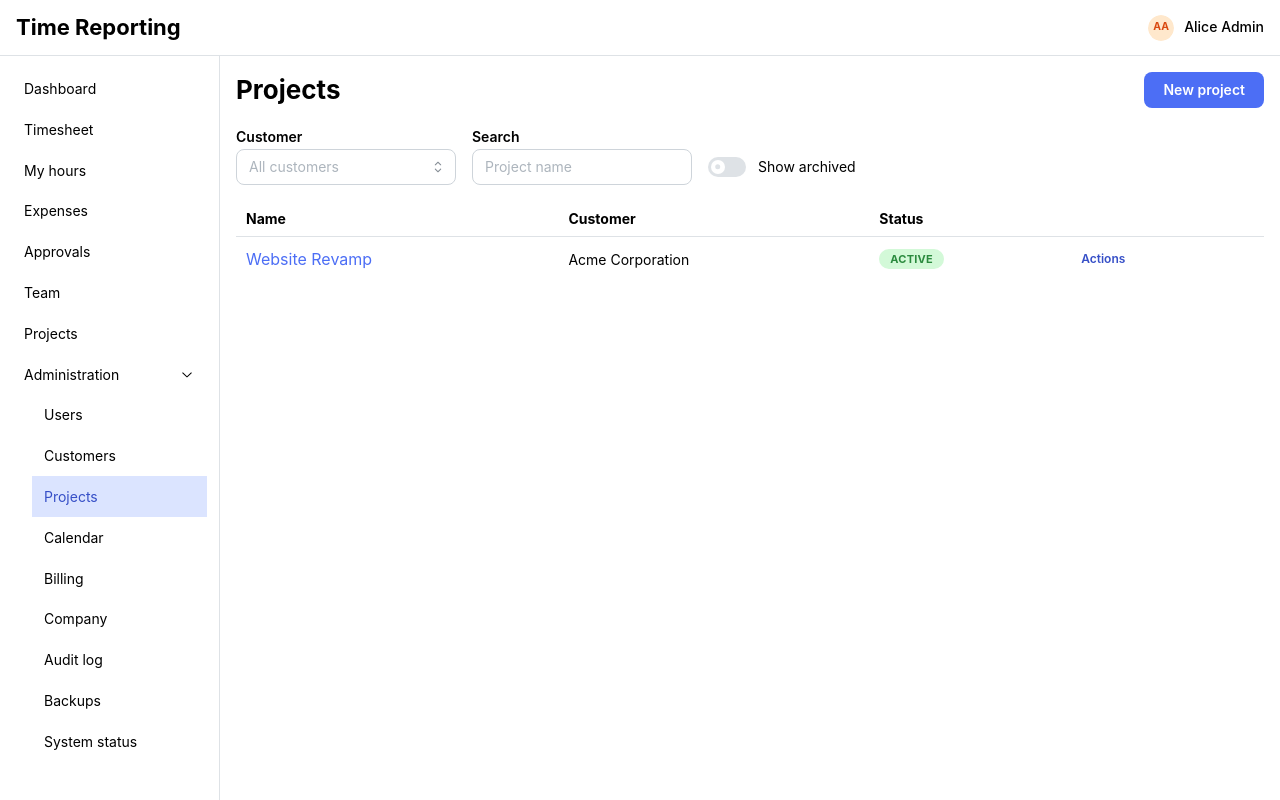
Test case: AdminProjectsPage › creates a project and stays on the admin page
expect the link "Website Revamp" is shown: met, box [246,249,372,269]
Click the button "New project" at (1204, 90), box [1144,72,1264,108]
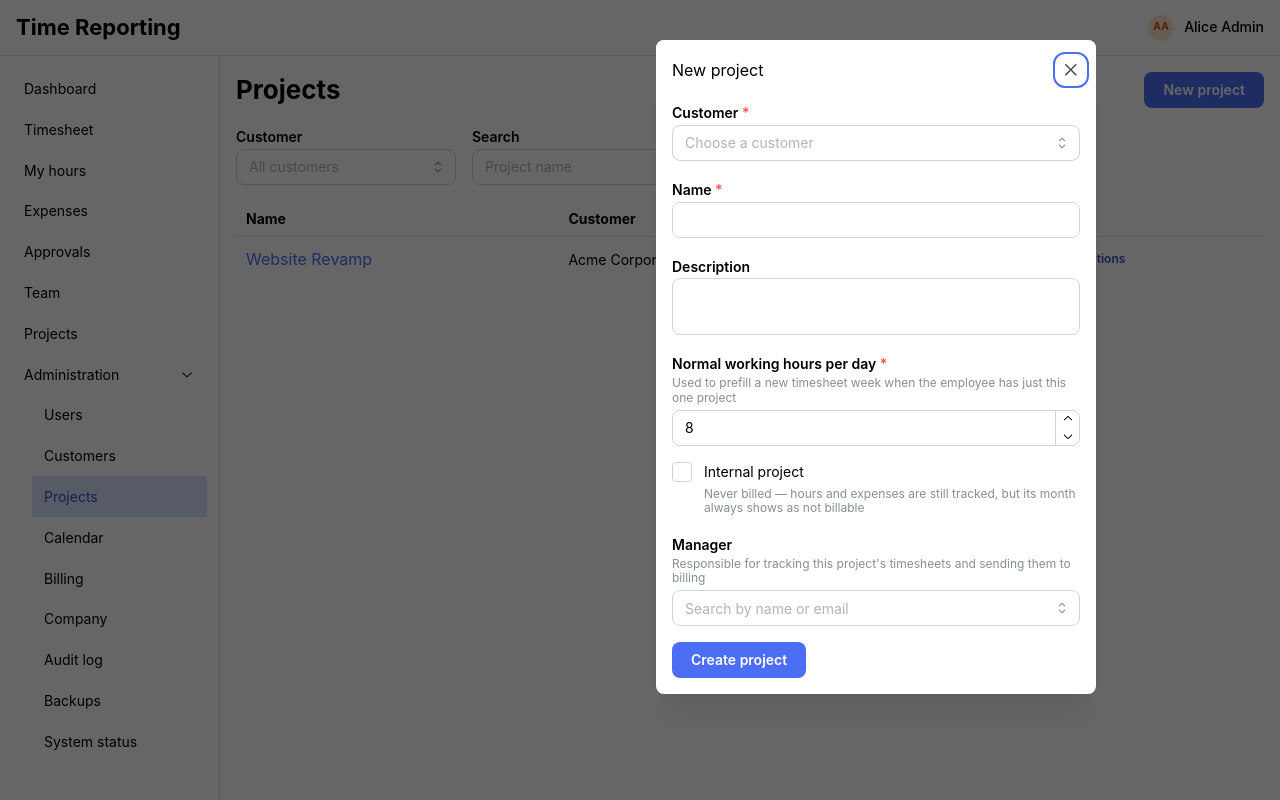
Click the dropdown labelled "Customer" at (876, 143), box [672,125,1080,161]
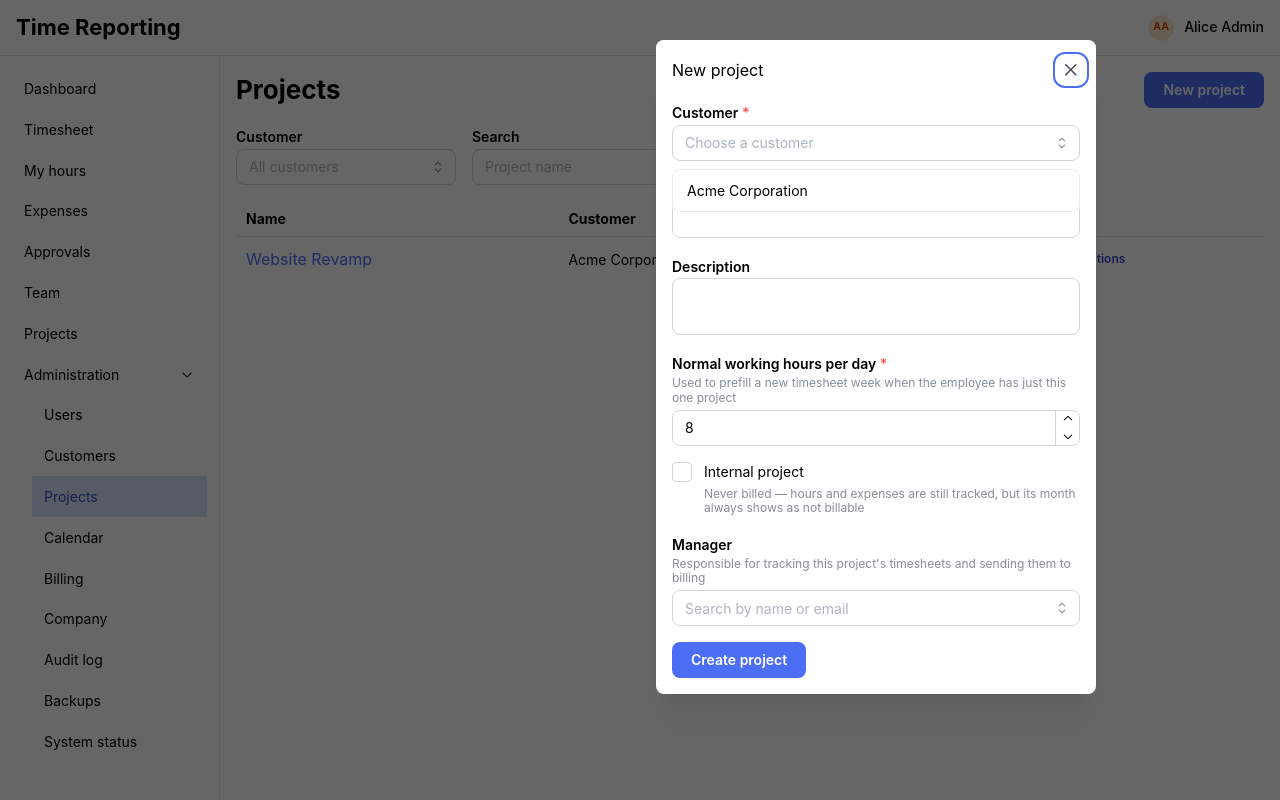
Click the option "Acme Corporation" at (747, 190), box [687,182,808,199]
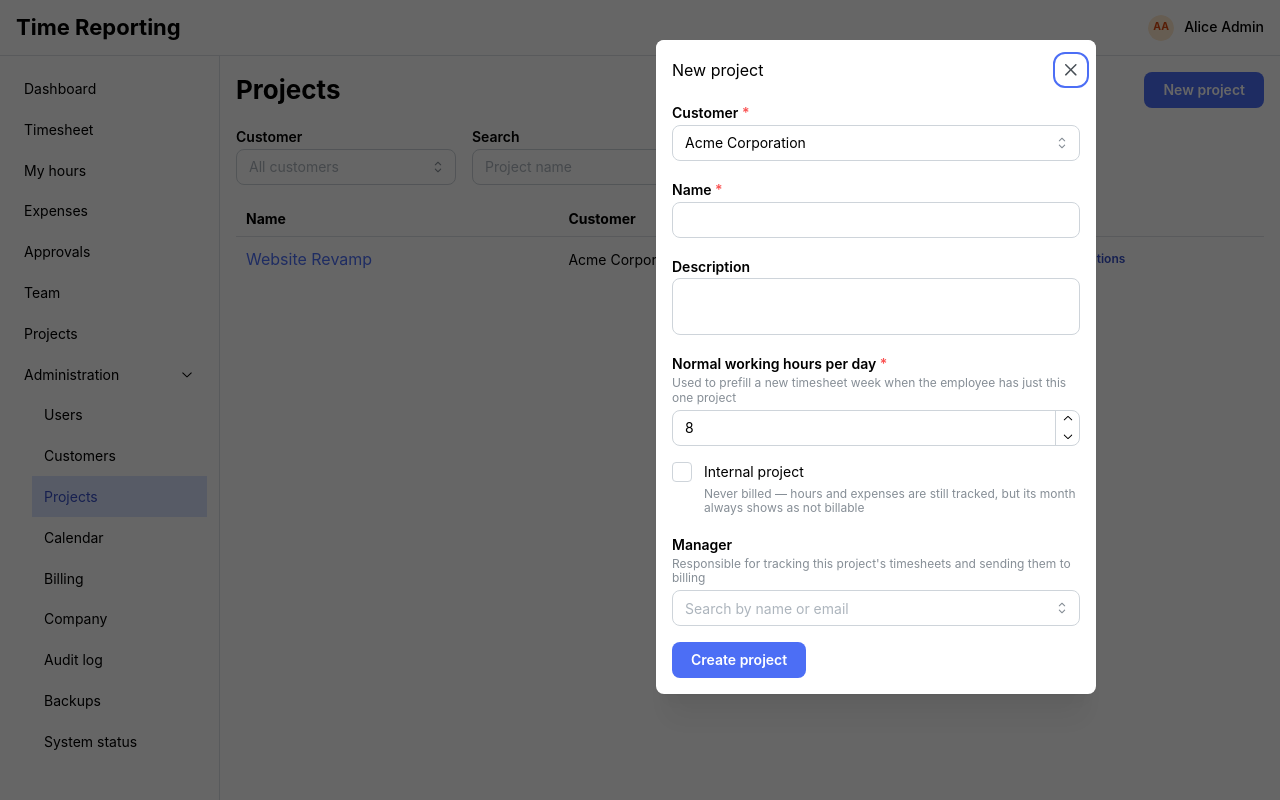
Type "New Project" into the field labelled "Name" at (876, 220), box [672,202,1080,238]
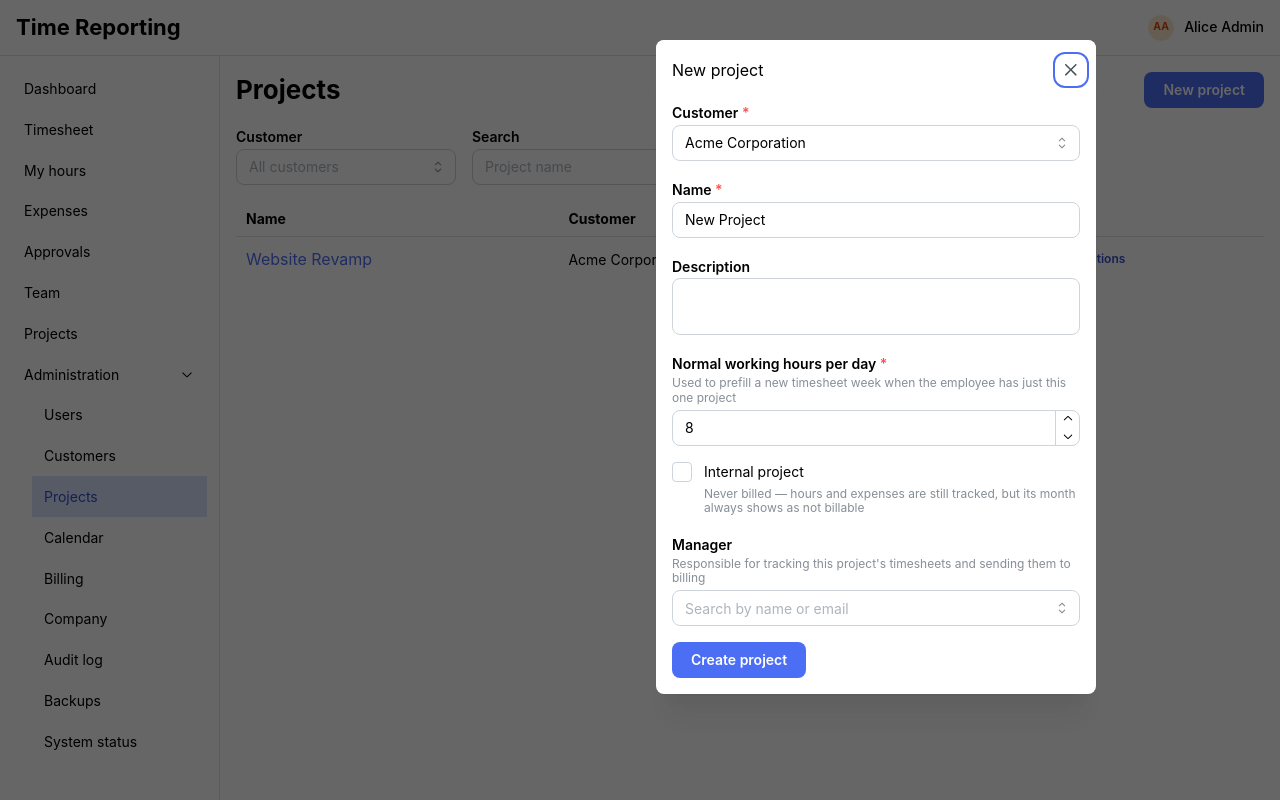
Click the button "Create project" at (739, 660), box [672,642,806,678]
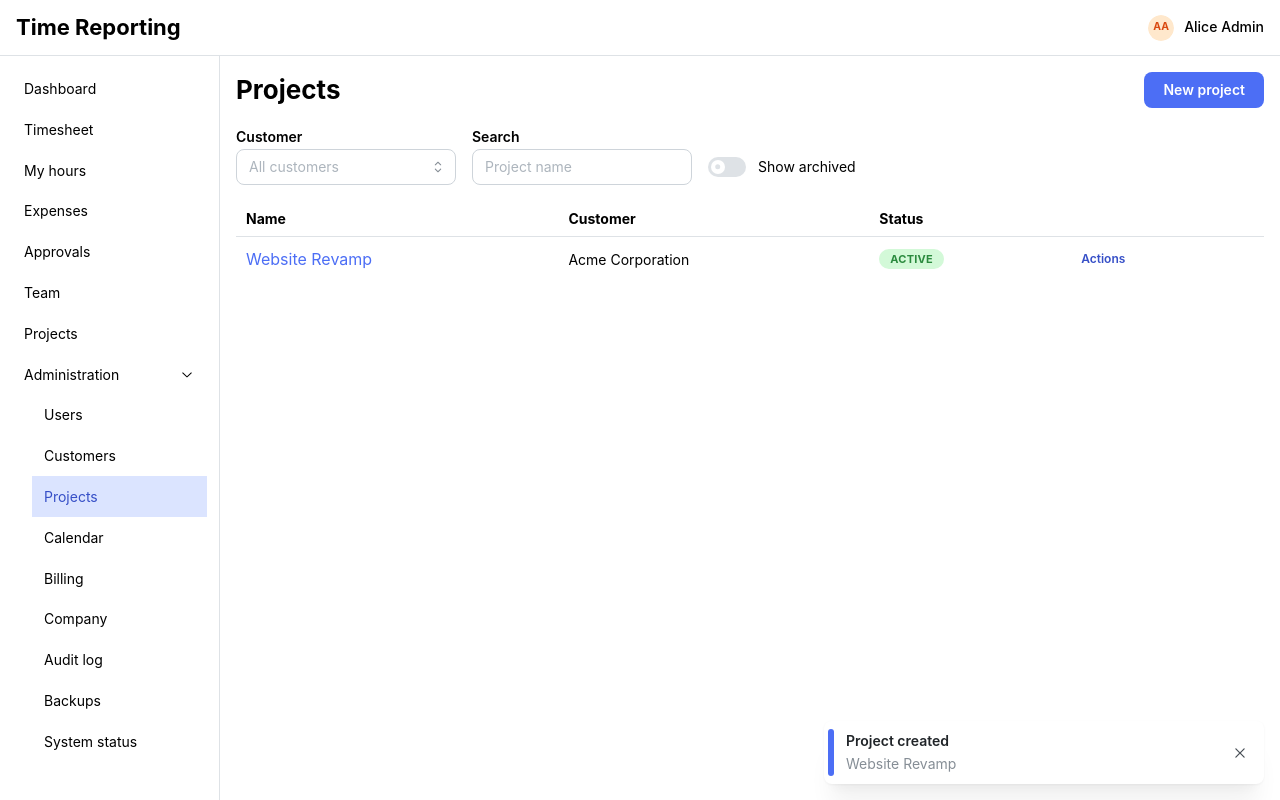
expect the heading "Projects" is shown: met, box [236,72,340,108]
expect the dialog is gone: met
